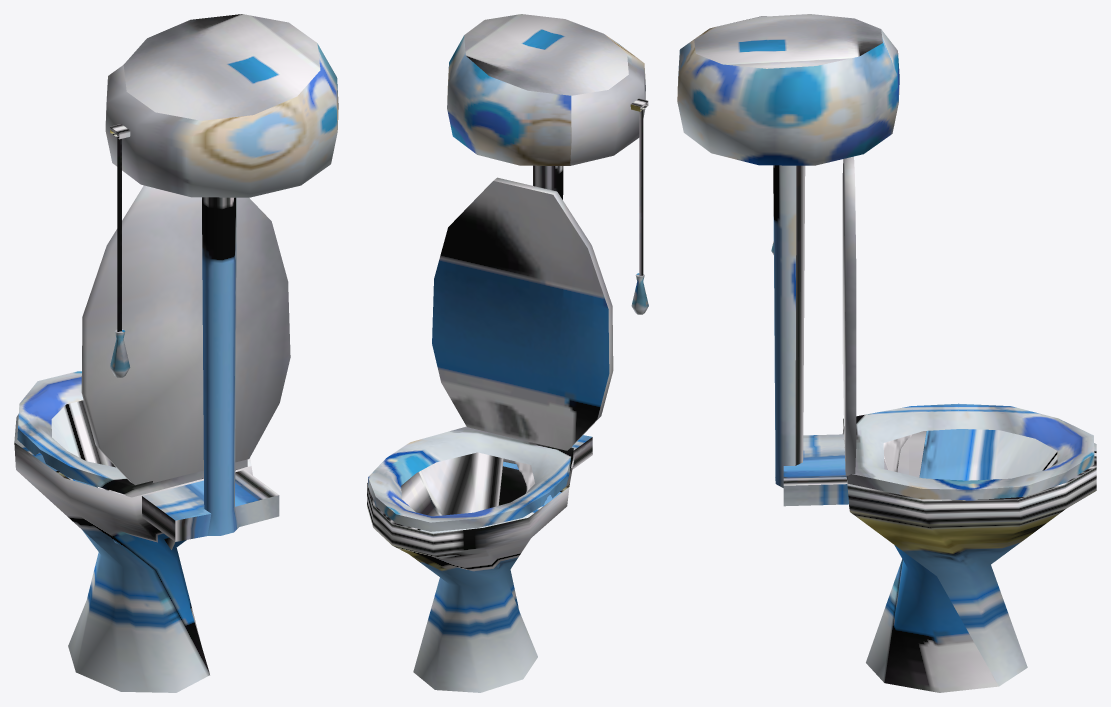
The model's file is furni_0200527.FBX.
3 renders of one model, left to right at view 1: azimuth 30°, elevation 25°; view 2: azimuth 150°, elevation 25°; view 3: azimuth 270°, elevation 25°, orthographic. The views are drawn at different scales.
Visible parts, largest first — view 1: furni_0200527; view 2: furni_0200527; view 3: furni_0200527.
Part boxes in pixels (box(x1,y1,x2,y2)): furni_0200527: box(14, 14, 338, 692); furni_0200527: box(367, 14, 648, 692); furni_0200527: box(677, 14, 1096, 692).
Bounding box in the file's own units: 42.42 × 126 × 75.26.
1 material, 1 textured.
